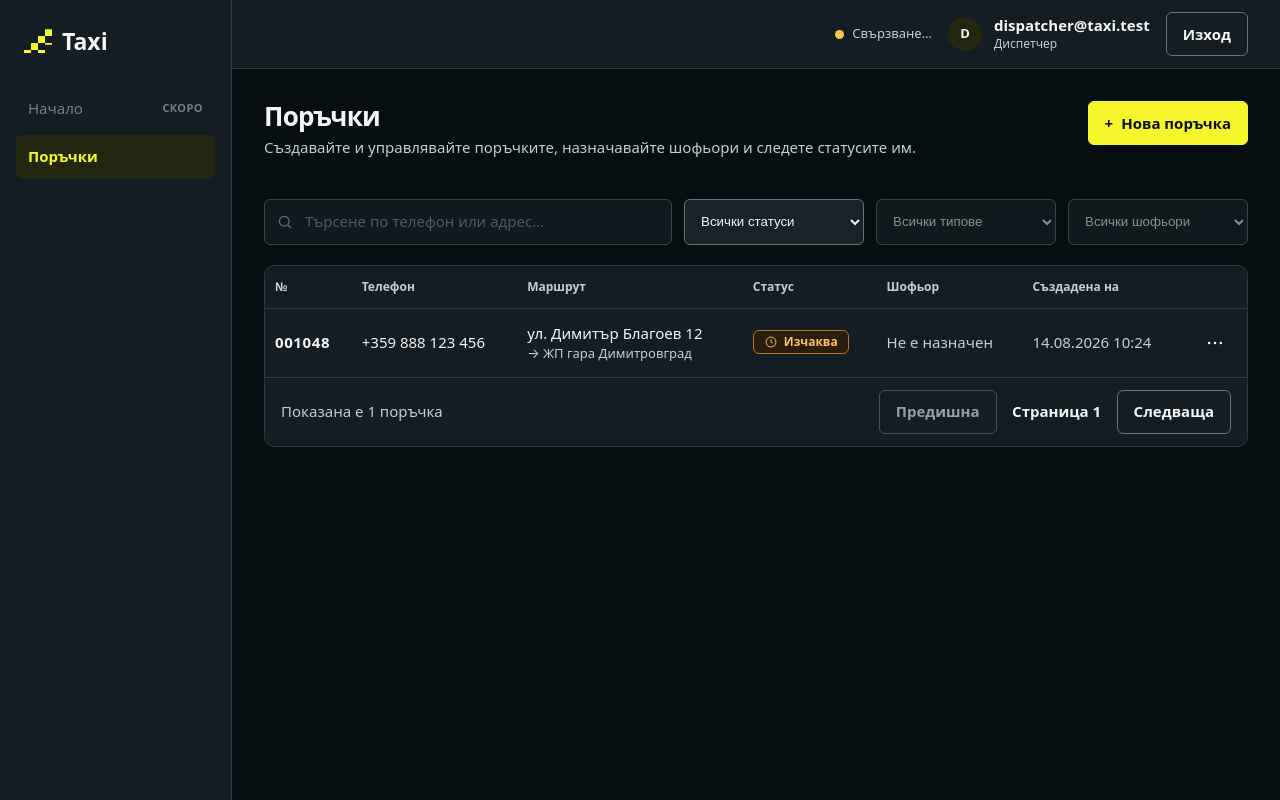
Test: RidesPage (mocked ride port, not live integration) › list › pages without inventing totals
Expected: the text "Показана е 1 поръчка" is shown, 281,400 -> 443,423
Expected: the button "Предишна" is disabled, 879,390 -> 997,434
Click the button "Следваща": (1174, 412) 1117,390 -> 1231,434
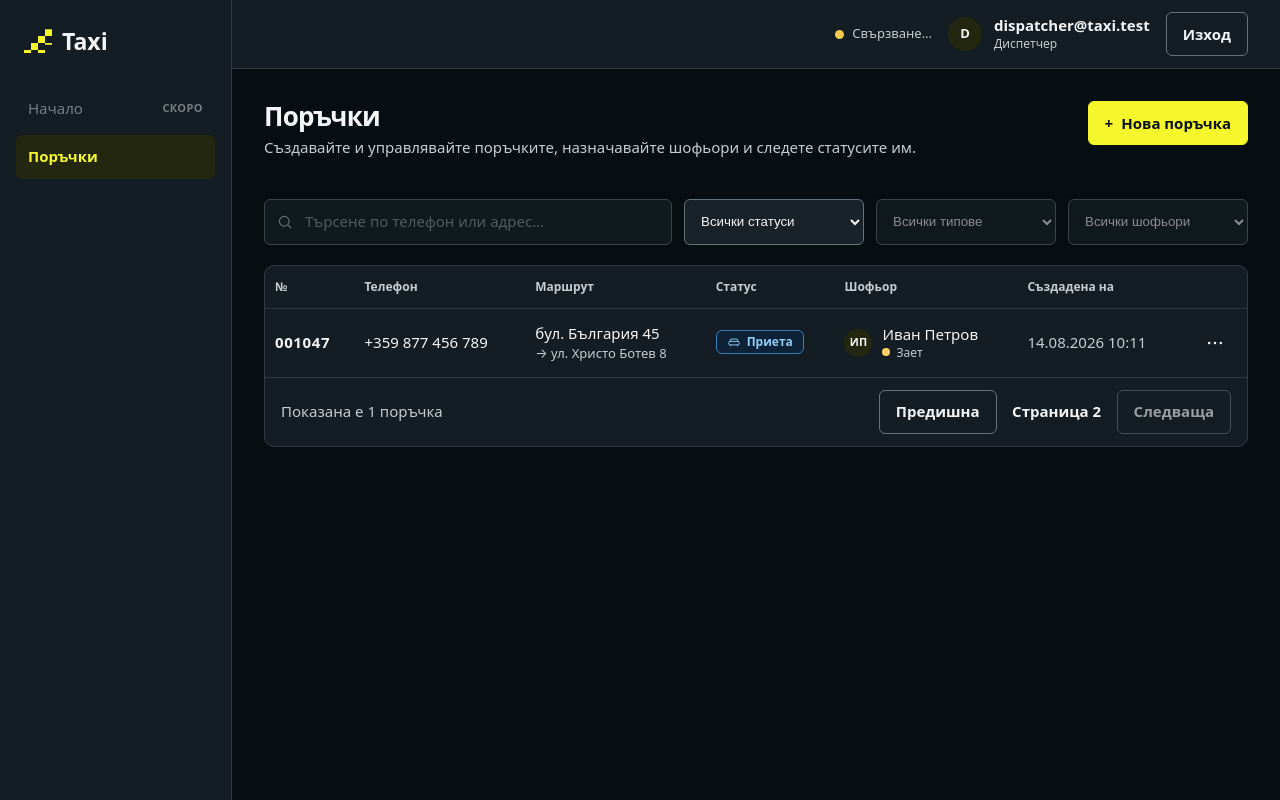
Expected: the column heading "001047" is shown, 265,309 -> 354,377
Expected: the button "Следваща" is disabled, 1117,390 -> 1231,434
